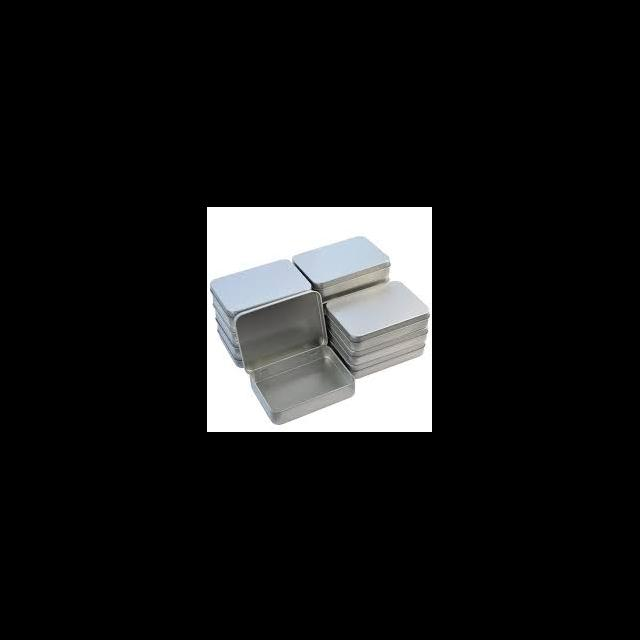metal: (250, 346, 356, 424), (234, 290, 326, 372), (210, 258, 310, 332), (324, 280, 430, 348), (292, 237, 389, 296), (215, 308, 318, 344), (217, 324, 284, 368), (328, 332, 430, 358), (338, 352, 428, 377)
